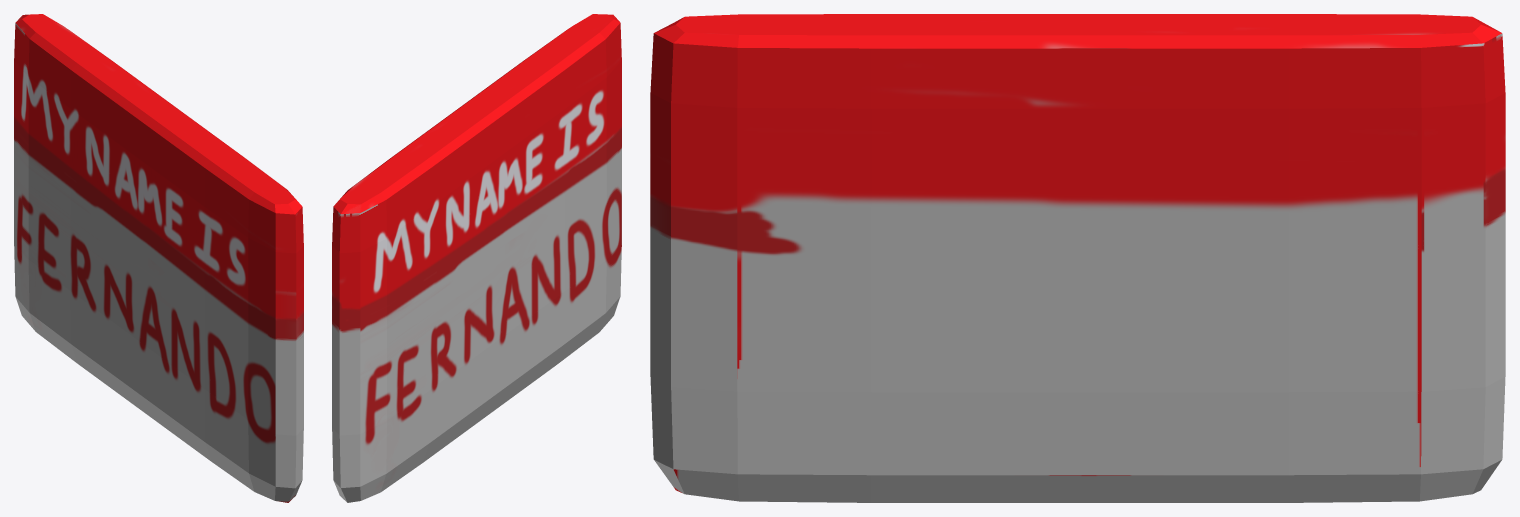
Rendered from name tag.fbx.
3 views of the same model, side by side, from view 1: azimuth 30°, elevation 25°; view 2: azimuth 150°, elevation 25°; view 3: azimuth 270°, elevation 25° (orthographic). The views are drawn at different scales.
Parts seen in each view (by area): view 1: Cube; view 2: Cube; view 3: Cube.
Part boxes in pixels (x1,y1,x2,y2): Cube: [14, 14, 303, 502]; Cube: [332, 14, 621, 502]; Cube: [650, 14, 1505, 502].
Bounding box in the file's own units: 17.48 × 121 × 197.
1 material, 1 textured.
